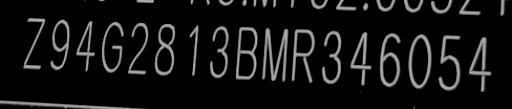letter: (464, 34, 496, 93), (436, 31, 464, 92), (406, 31, 434, 90), (260, 26, 288, 83), (346, 29, 374, 86), (21, 16, 47, 73), (100, 18, 126, 75), (234, 24, 260, 81), (290, 27, 316, 84), (126, 20, 152, 75), (378, 29, 402, 88), (153, 20, 177, 77), (206, 23, 230, 80), (320, 29, 344, 86), (48, 17, 72, 72), (74, 18, 98, 73), (186, 22, 200, 79)
